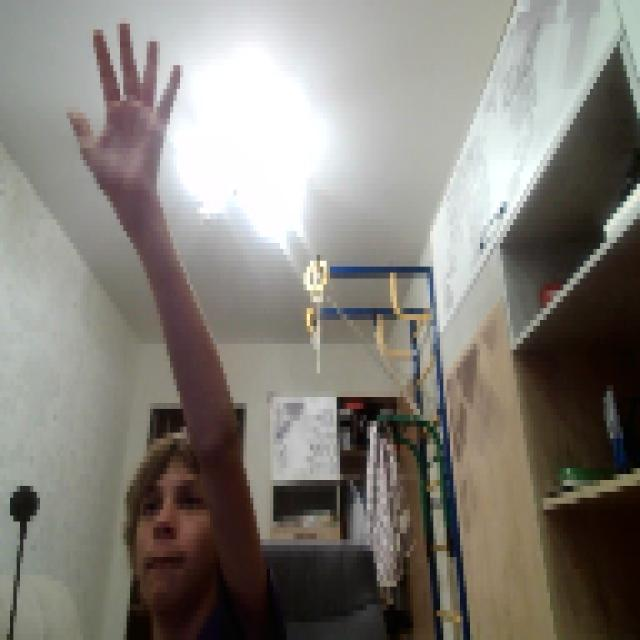hand: (63, 12, 180, 201)
